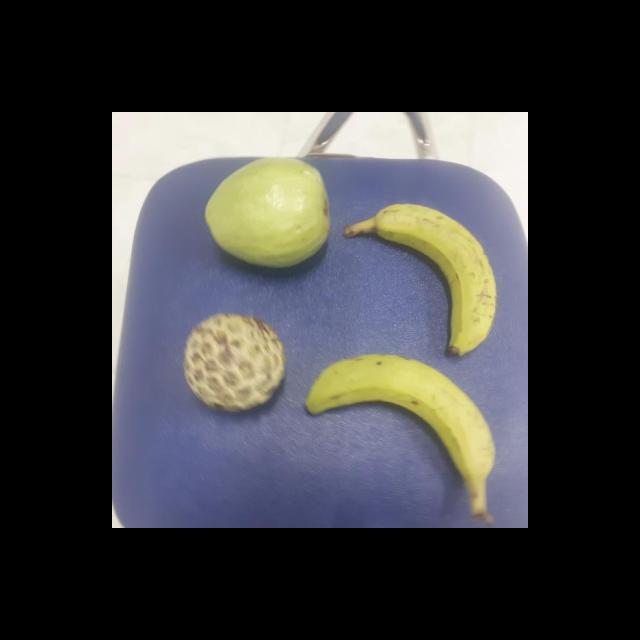Sakya fruit: (178, 314, 284, 412)
banana: (296, 354, 482, 494), (340, 206, 493, 356)
guava: (203, 156, 330, 270)
